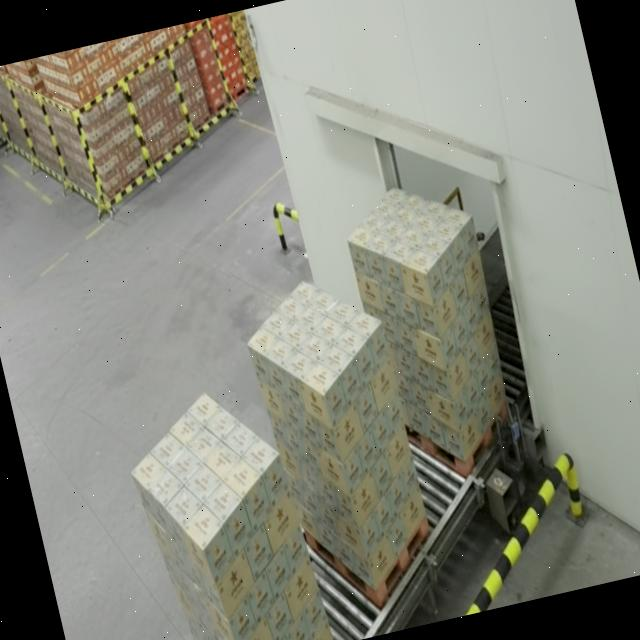pallet: (234, 260, 450, 630), (338, 162, 534, 506), (112, 364, 333, 640)
